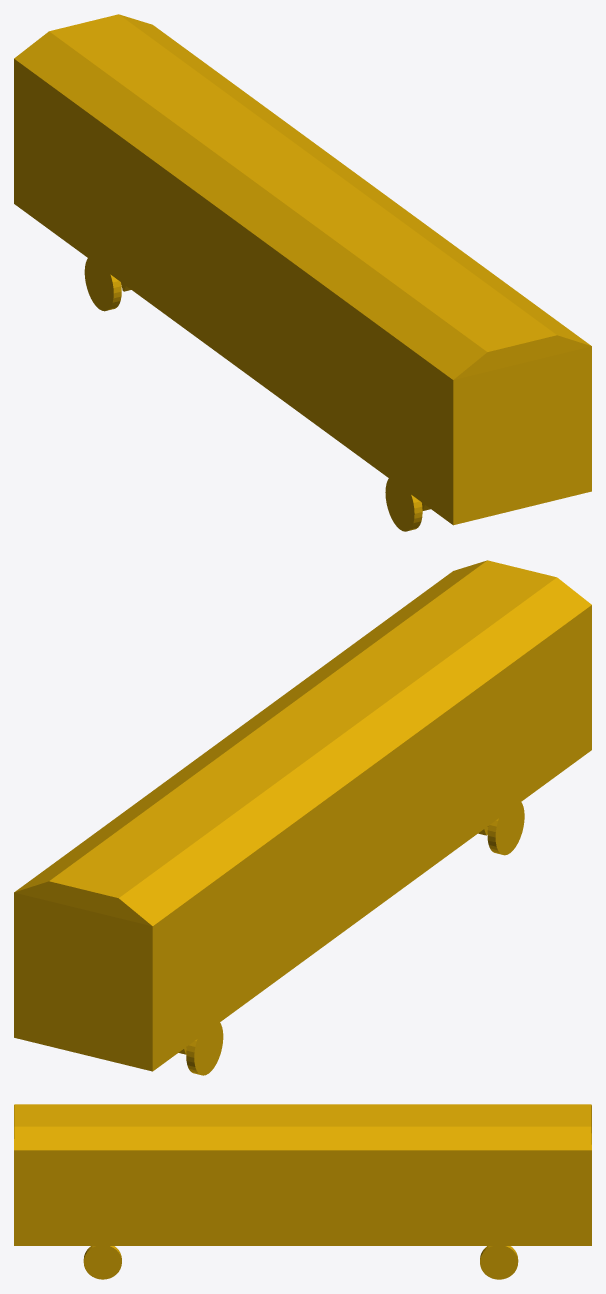
The model's file is Carriage.obj.
3 views of the same model, one above another, from view 1: azimuth 30°, elevation 25°; view 2: azimuth 150°, elevation 25°; view 3: azimuth 270°, elevation 25° (orthographic). The views are drawn at different scales.
Visible parts, largest first — view 1: Cube_Cube.001; view 2: Cube_Cube.001; view 3: Cube_Cube.001.
Boxes of the visible parts, x1,y1,x2,y2 form: Cube_Cube.001: (14, 14, 591, 531); Cube_Cube.001: (14, 560, 591, 1075); Cube_Cube.001: (14, 1104, 591, 1279).
Bounding box in the file's own units: 2 × 3.05 × 10.96.
